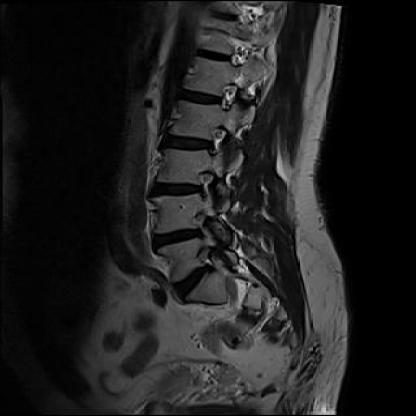Disc Bulgerotation: (158, 133, 214, 155), (151, 227, 204, 250), (150, 180, 204, 202)
Disc Protrusionrotation: (168, 268, 221, 296)
